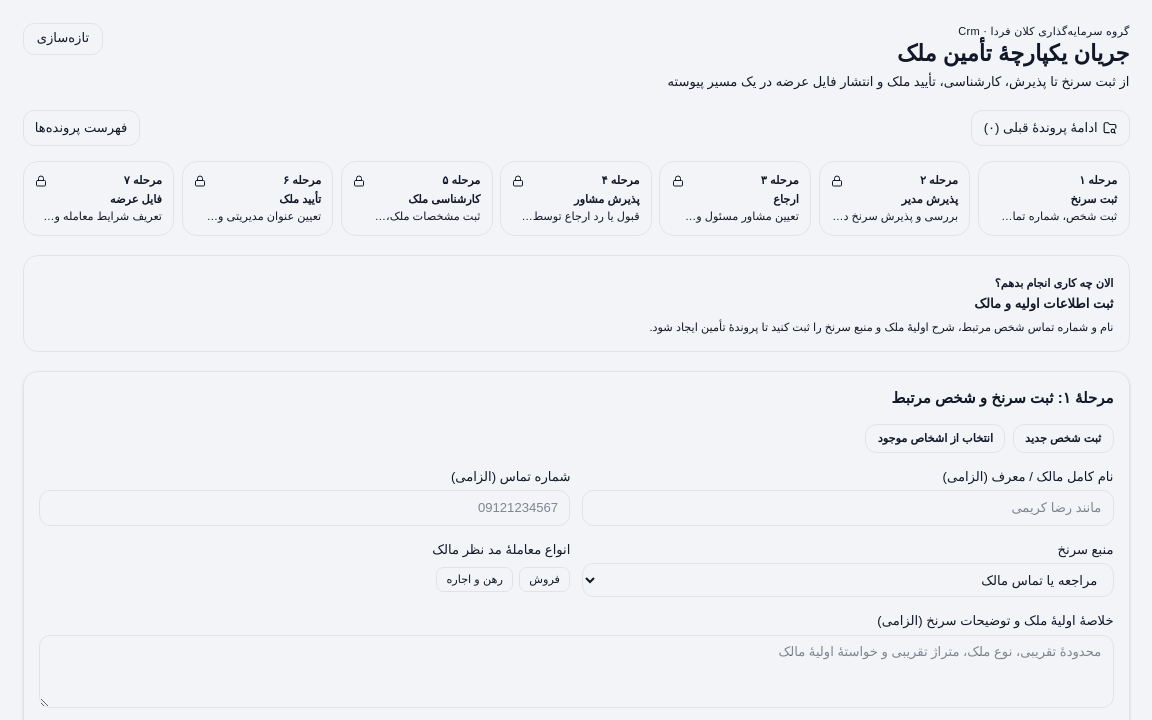
Test case: property registration lead step › lists each CRM person once inside the searchable picker
Click the button "انتخاب از اشخاص موجود".
click(935, 438)  # box 866,424 -> 1005,453
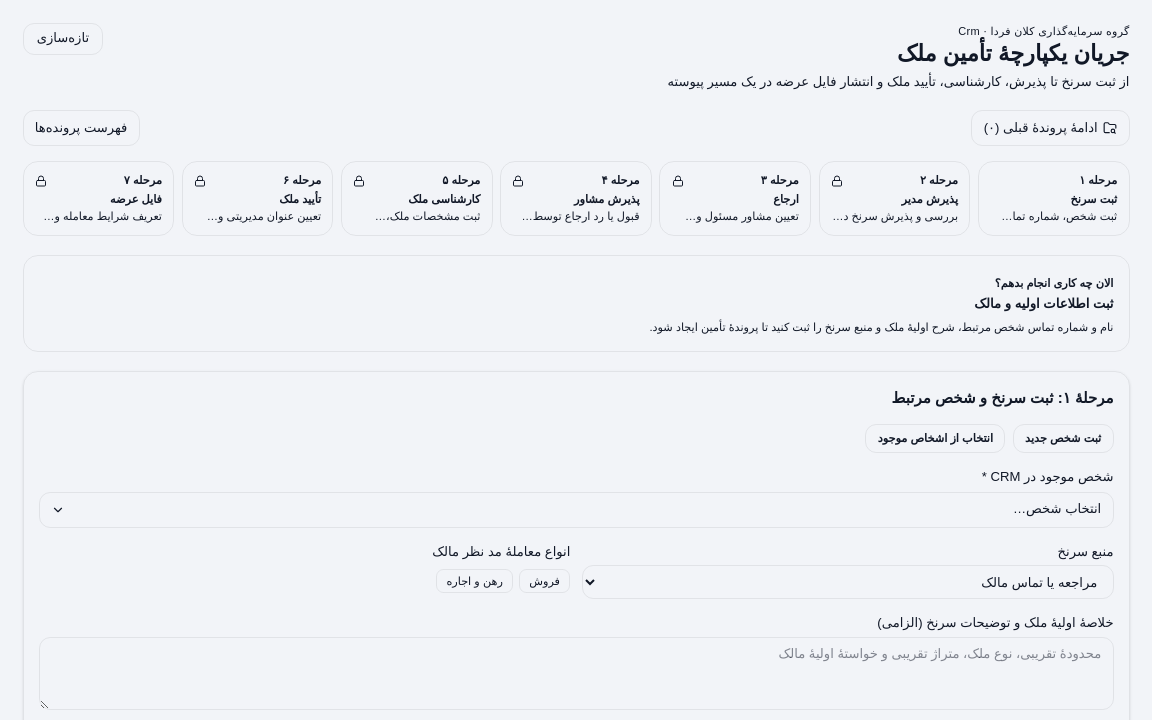
Click the button "انتخاب شخص…".
click(1057, 509)  # box 38,492 -> 1114,528
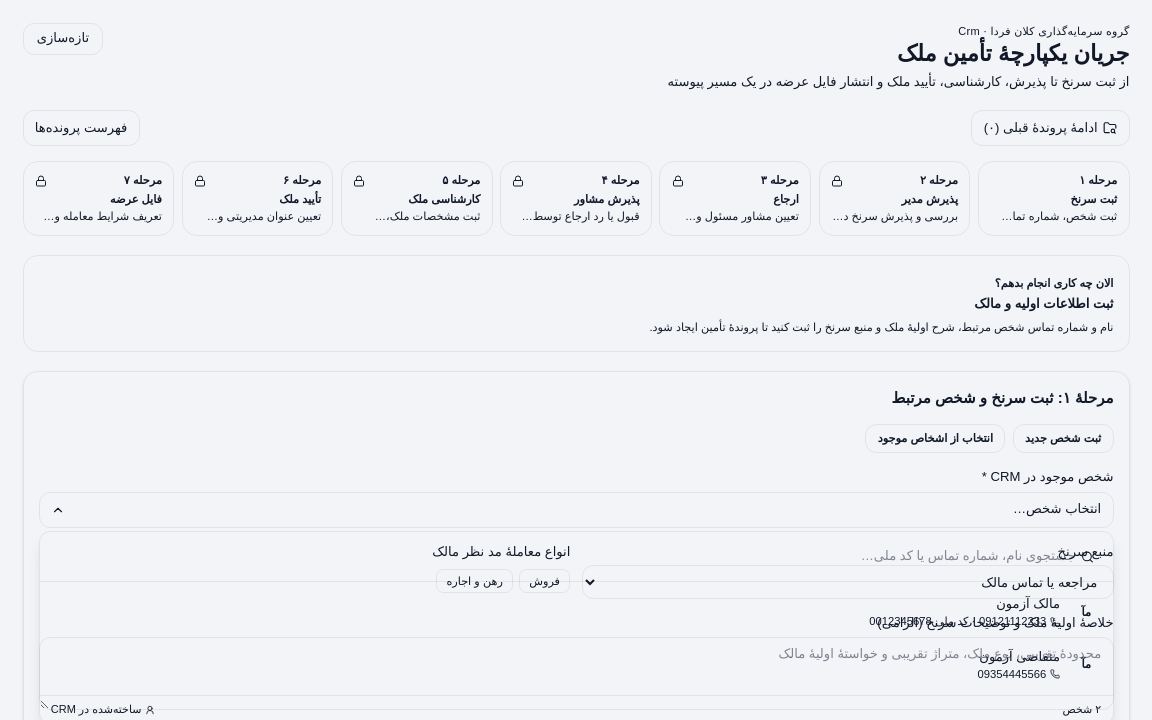
Check: the number of options is 2, box 40,586 -> 1112,638; 40,638 -> 1112,691
Check: the text "مالک آزمون" is shown once, box 996,596 -> 1060,611
Type "متقاضی" into the field named "جستجو در اشخاص".
click(576, 557); type("متقاضی")  # box 47,540 -> 1105,574
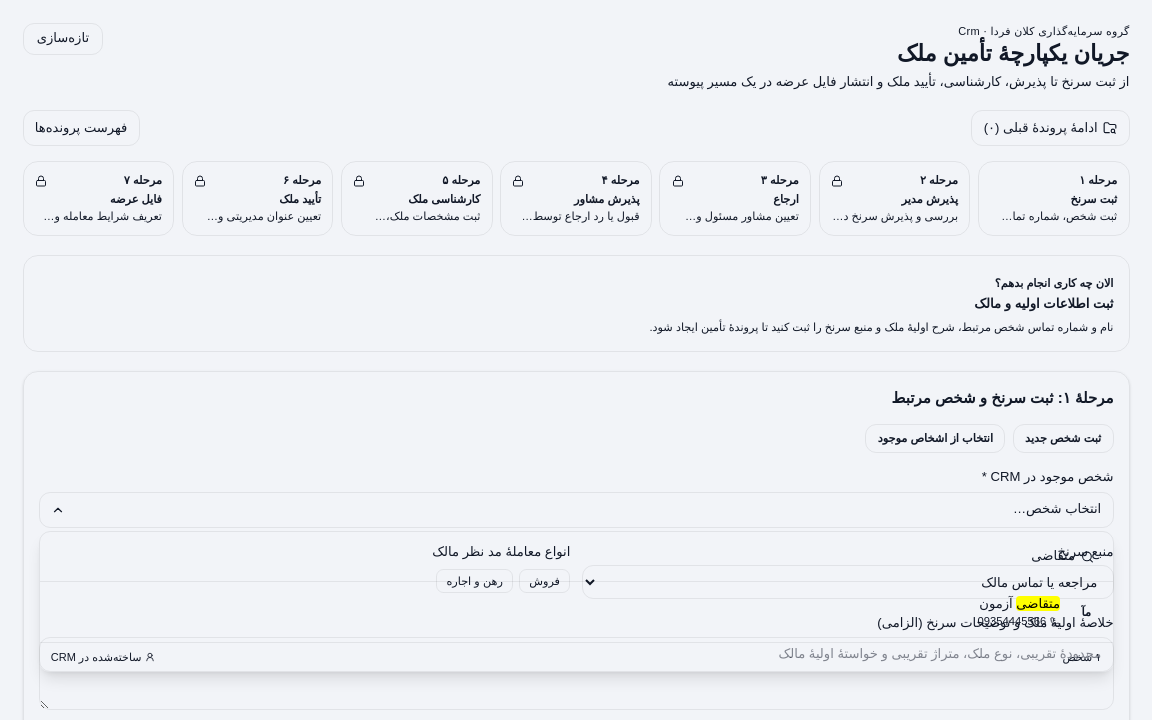
Check: the number of options is 1, box 40,586 -> 1112,638
